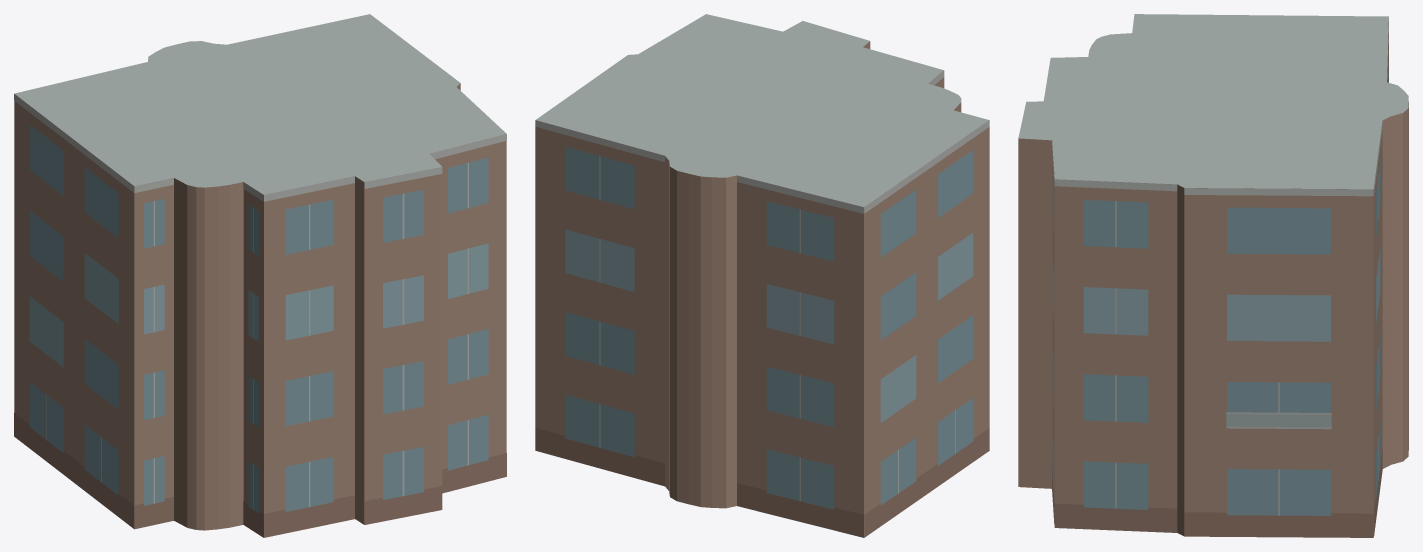
File: survey-upis-32930222.glb
3 views of the same model, side by side, from view 1: azimuth 30°, elevation 25°; view 2: azimuth 150°, elevation 25°; view 3: azimuth 270°, elevation 25° (orthographic). The views are drawn at different scales.
Parts seen in each view (by area): view 1: survey-upis-32930222.tmp; view 2: survey-upis-32930222.tmp; view 3: survey-upis-32930222.tmp.
Part boxes in pixels (x1,y1,x2,y2): survey-upis-32930222.tmp: [14, 14, 506, 537]; survey-upis-32930222.tmp: [535, 14, 989, 537]; survey-upis-32930222.tmp: [1018, 14, 1408, 537].
Size of the model in its own units: 13.18 by 12.2 by 12.39.
